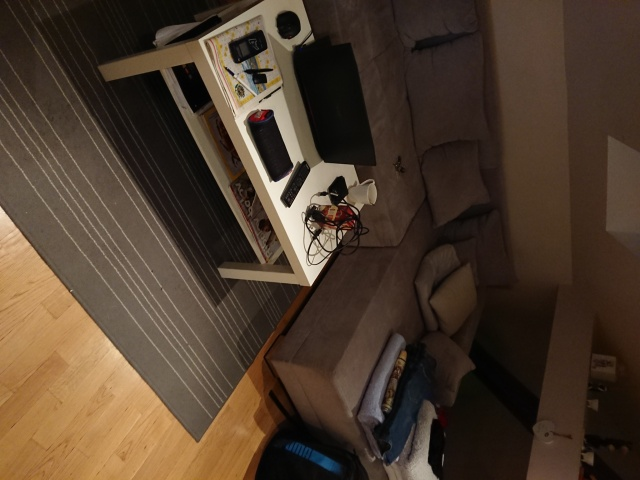Franck Apple Cinnamon Tea 60g: (311, 202, 358, 231)
